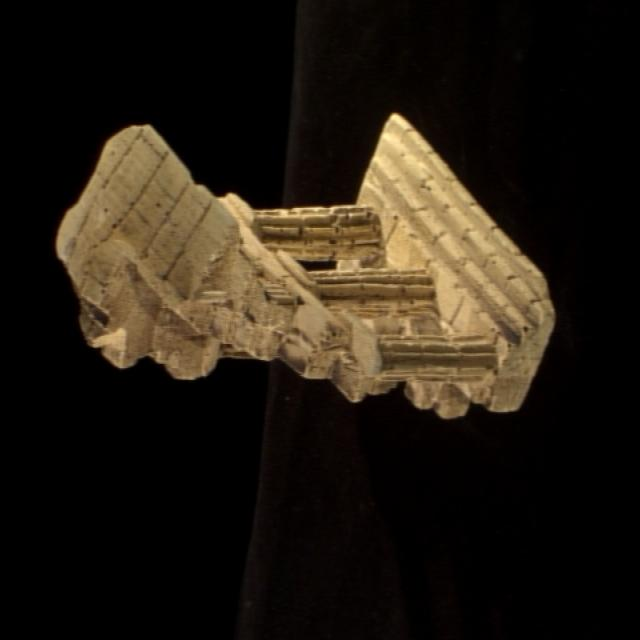Instance-Segmentation: (57, 115, 554, 417)
